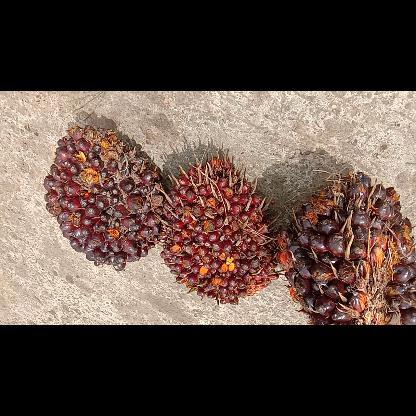Kurang masak: (162, 153, 278, 304), (44, 124, 162, 268)
TBS masak: (279, 170, 415, 324)
